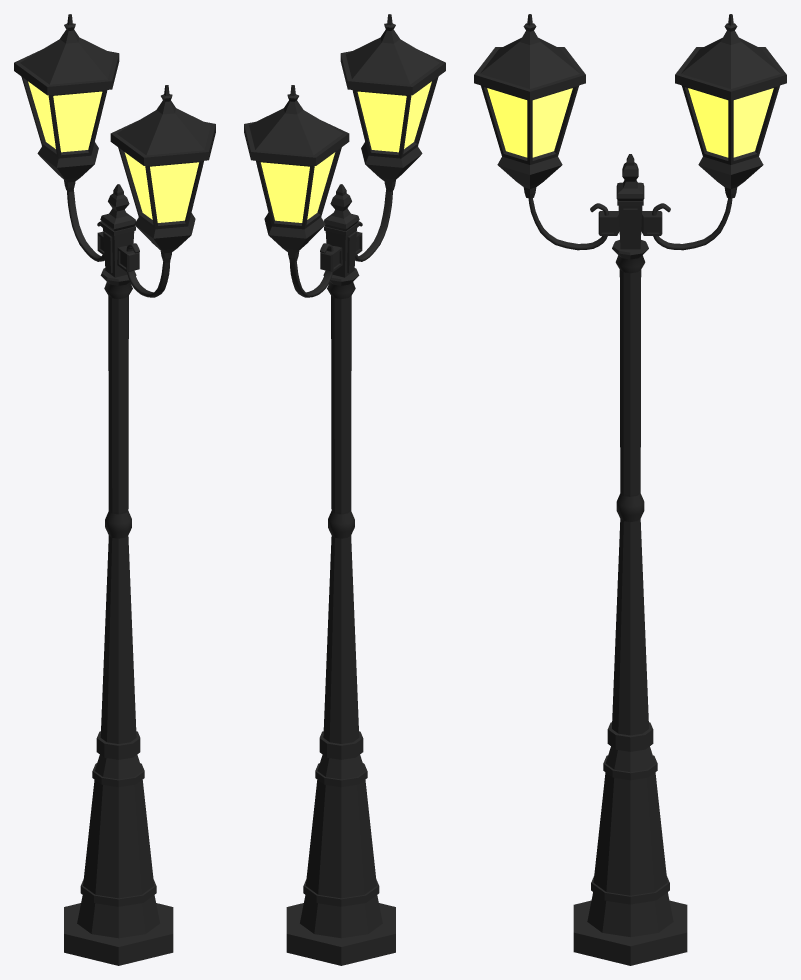
The model's file is DoubleLightPost.glb.
3 renders of one model, left to right at view 1: azimuth 30°, elevation 25°; view 2: azimuth 150°, elevation 25°; view 3: azimuth 270°, elevation 25°, orthographic. The views are drawn at different scales.
Visible parts, largest first — view 1: classic_street_light_2; view 2: classic_street_light_2; view 3: classic_street_light_2.
Boxes of the visible parts, left/top/right/bottom form: classic_street_light_2: left=14, top=14, right=215, bottom=965; classic_street_light_2: left=244, top=14, right=445, bottom=965; classic_street_light_2: left=474, top=14, right=786, bottom=965.
Bounding box in the file's own units: 0.4452 × 3.46 × 1.06.
